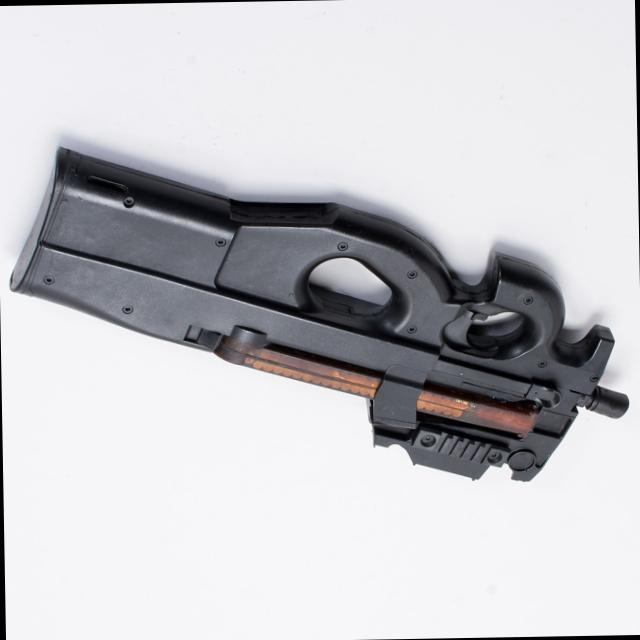Gun: (0, 137, 640, 502)
